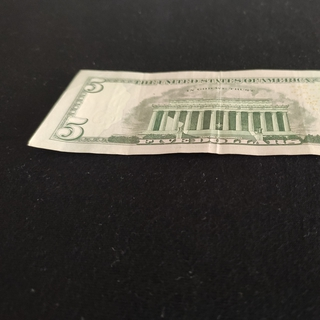5USDBack: (27, 65, 320, 157)
